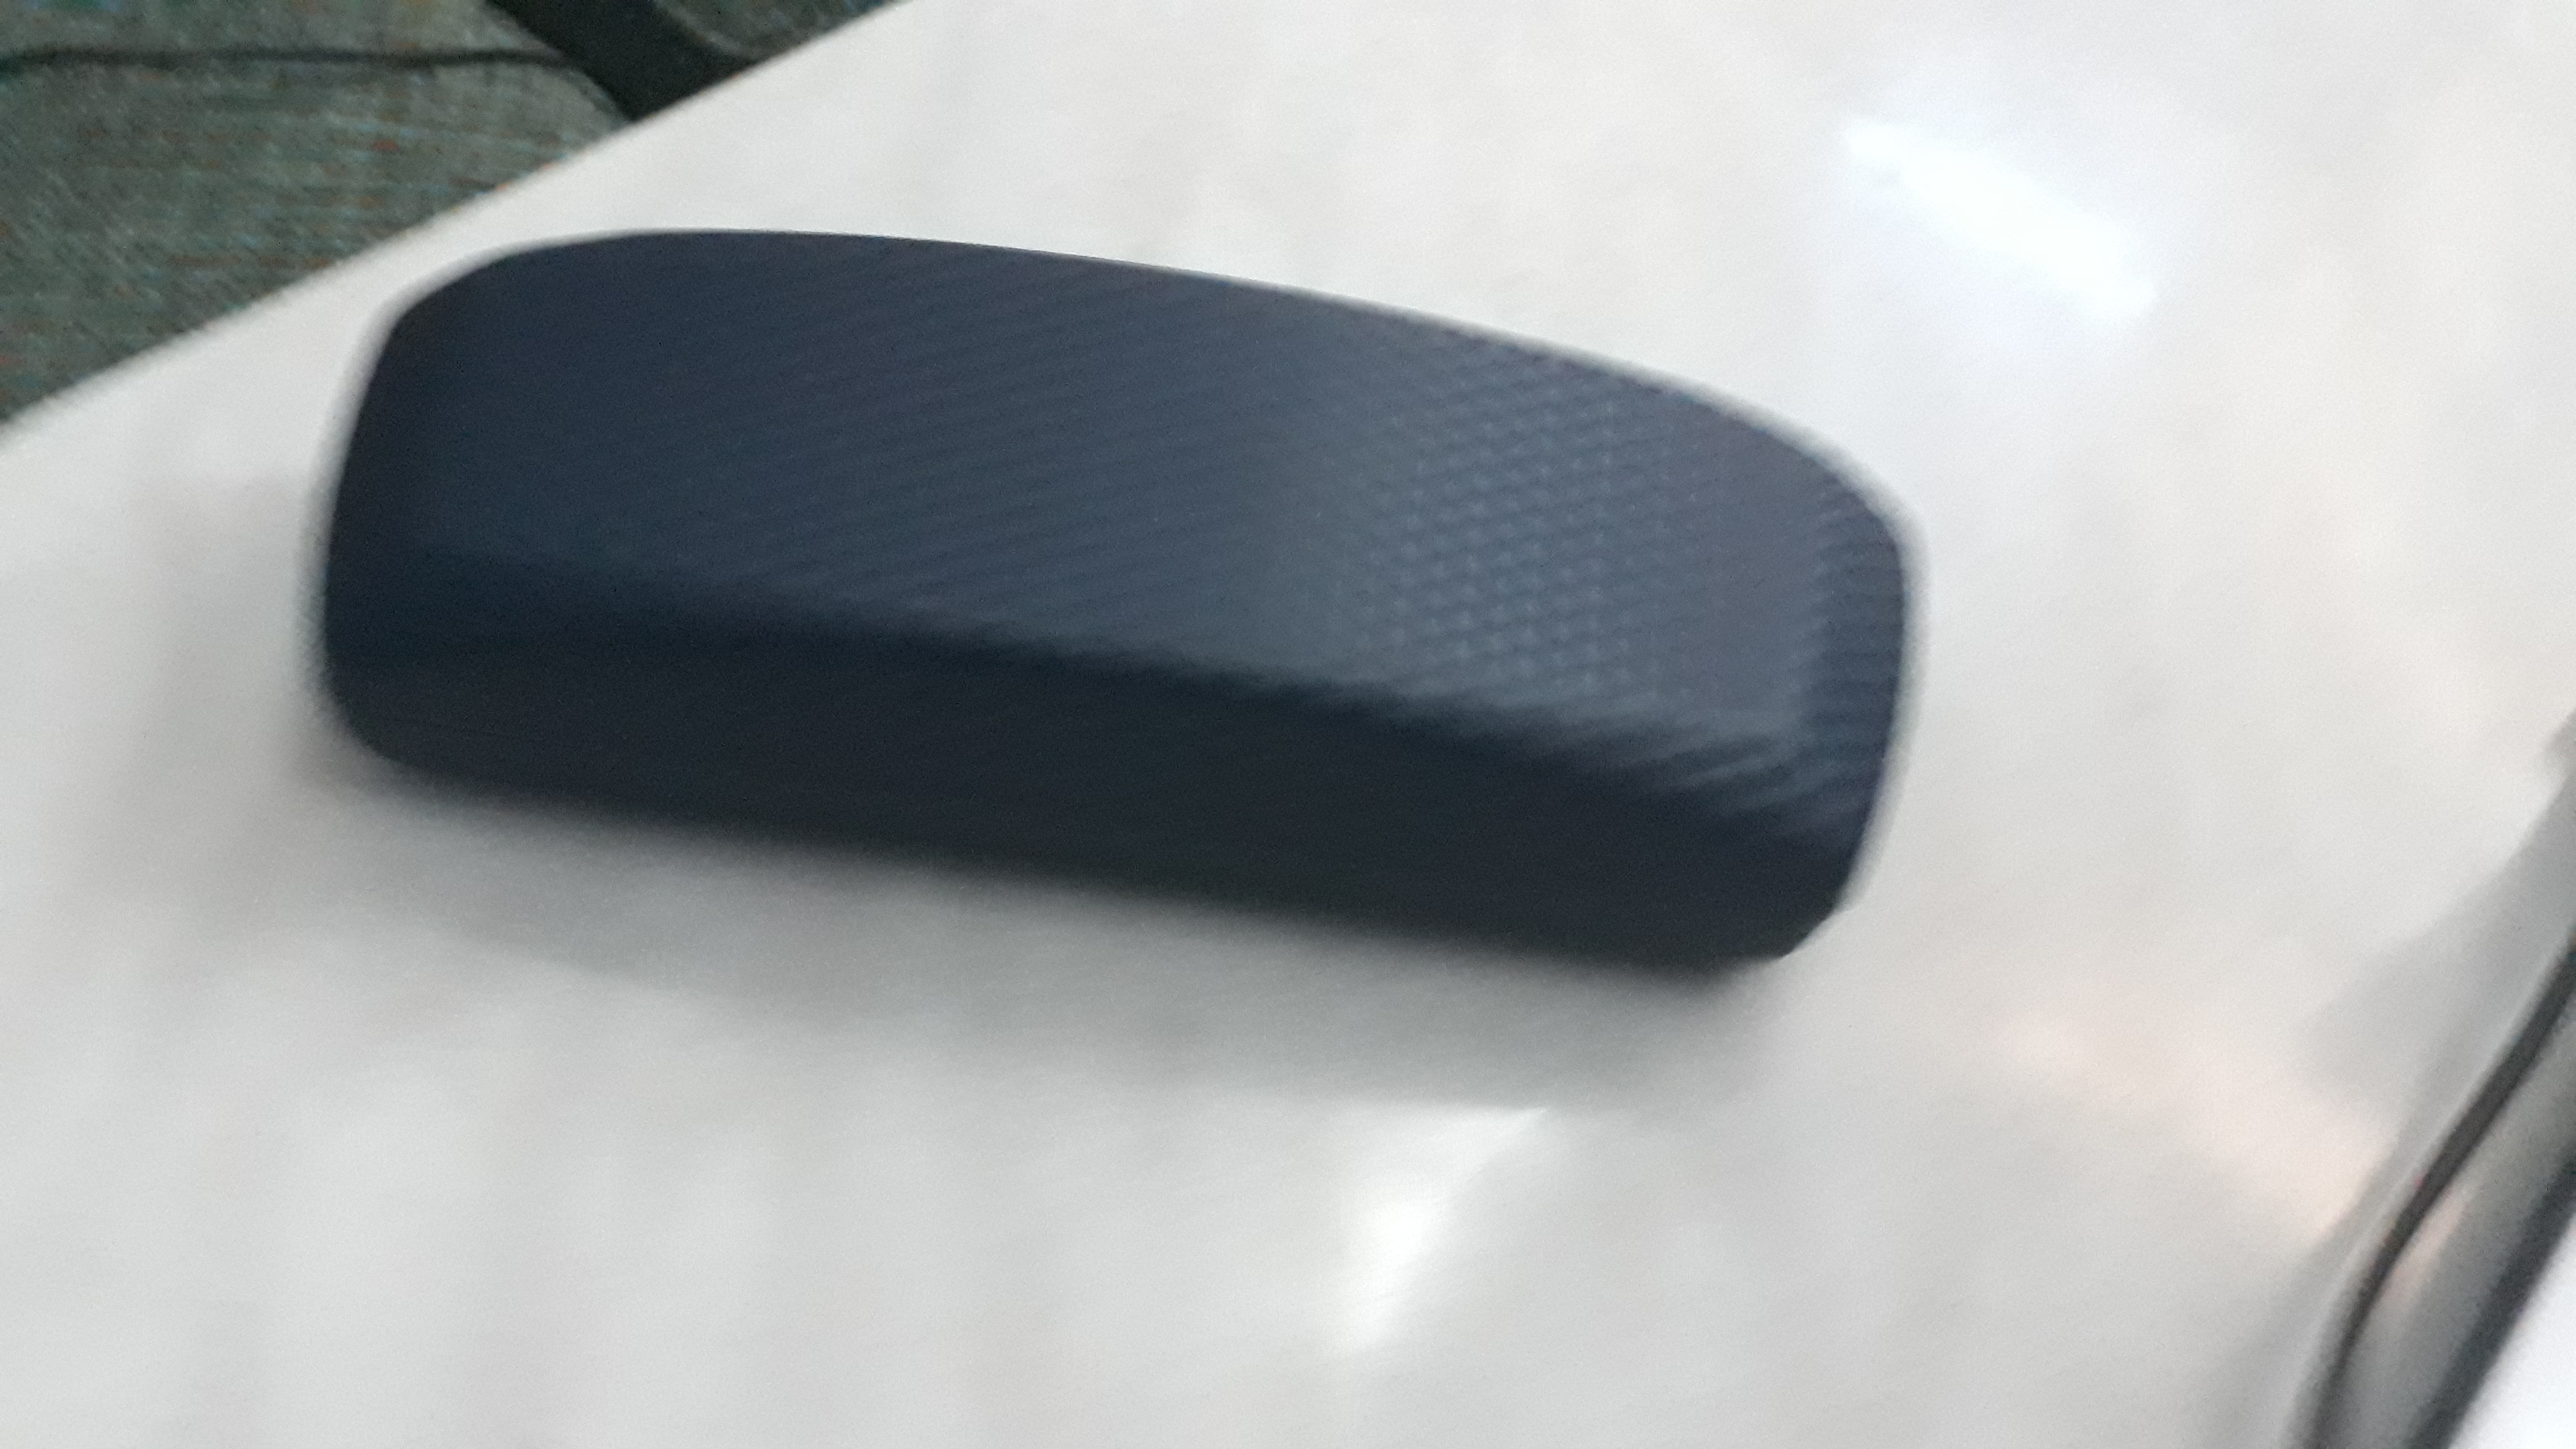nadar: (306, 205, 1950, 987)
